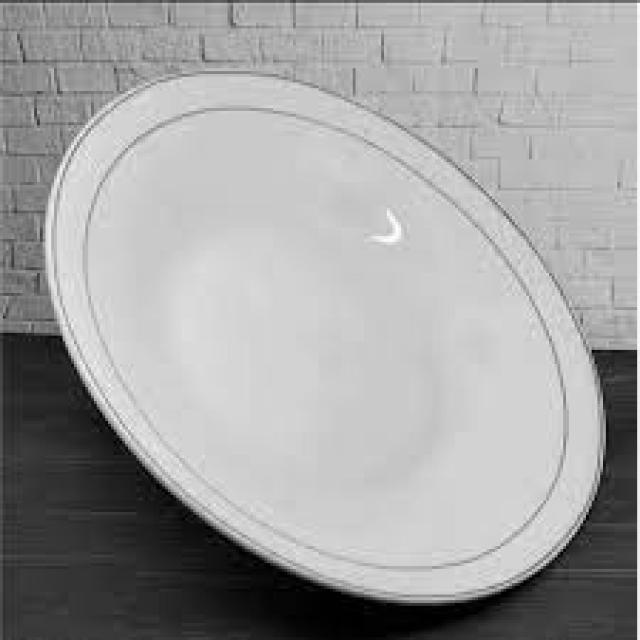dish: (28, 33, 624, 619)
